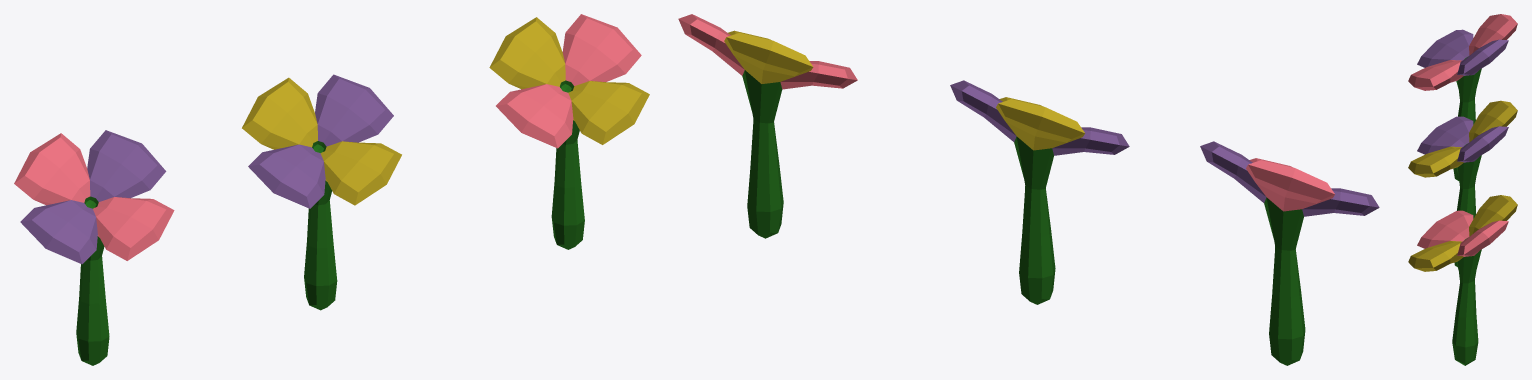
File: flowers.fbx
3 renders of one model, left to right at view 1: azimuth 30°, elevation 25°; view 2: azimuth 150°, elevation 25°; view 3: azimuth 270°, elevation 25°, orthographic. The views are drawn at different scales.
Visible parts, largest first — view 1: Cube, Cube.001, Cube.002; view 2: Cube.002, Cube, Cube.001; view 3: Cube.002, Cube.001, Cube.
Boxes of the visible parts, x1,y1,x2,y2 form: Cube: (14,130,174,365); Cube.001: (242,74,401,310); Cube.002: (489,14,649,249); Cube.002: (678,14,857,238); Cube: (1200,141,1379,365); Cube.001: (950,80,1129,304); Cube.002: (1408,195,1517,365); Cube.001: (1408,100,1517,266); Cube: (1408,14,1517,180).
Bounding box in the file's own units: 408 × 131 × 79.91.
